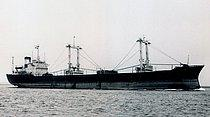Ship: (5, 32, 208, 95)
